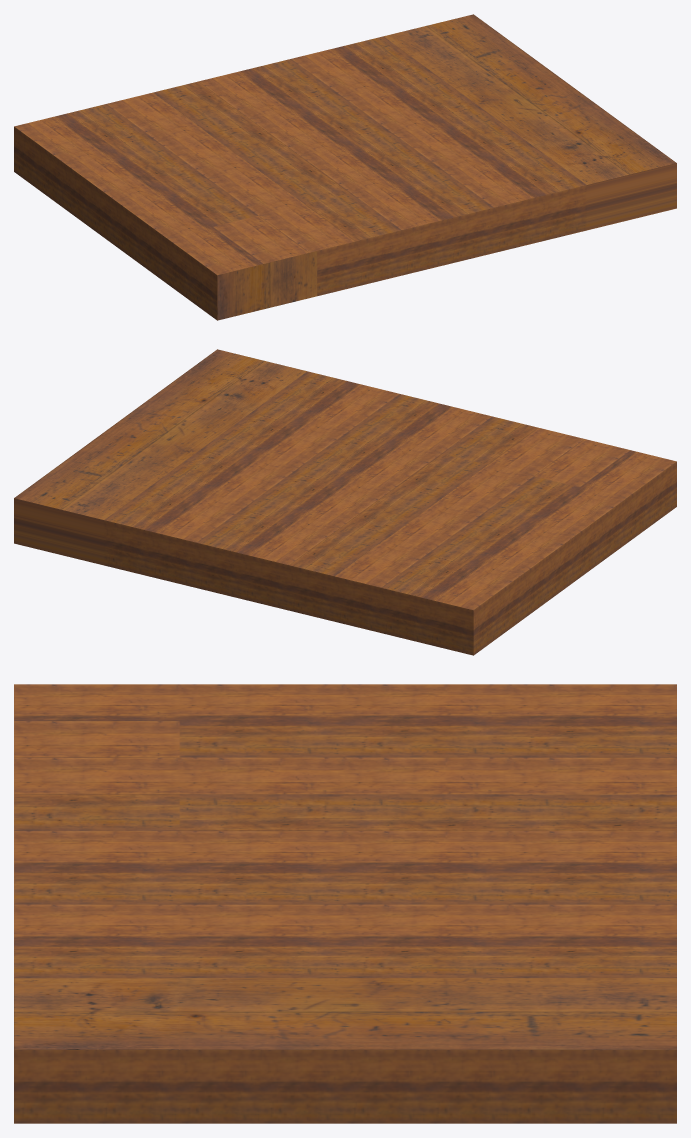
The model's file is DR_Floor.fbx.
3 views of the same model, one above another, from view 1: azimuth 30°, elevation 25°; view 2: azimuth 150°, elevation 25°; view 3: azimuth 270°, elevation 25° (orthographic). The views are drawn at different scales.
Parts seen in each view (by area): view 1: SB_Floor.001; view 2: SB_Floor.001; view 3: SB_Floor.001.
Part boxes in pixels (<box>): SB_Floor.001: <box>14,14,676,320</box>; SB_Floor.001: <box>14,349,676,655</box>; SB_Floor.001: <box>14,684,676,1123</box>.
Size of the model in its own units: 2328 by 220 by 1784.
